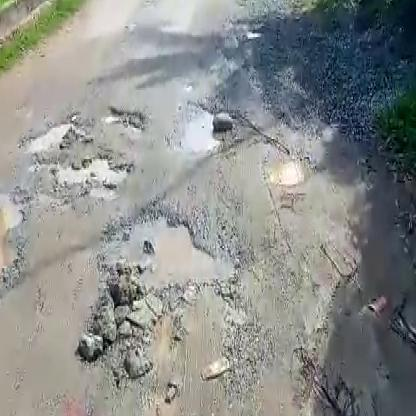pothole: (95, 205, 240, 284), (0, 188, 28, 337), (49, 153, 132, 189), (173, 101, 222, 153), (25, 117, 76, 159), (259, 151, 306, 193), (103, 105, 149, 134)
